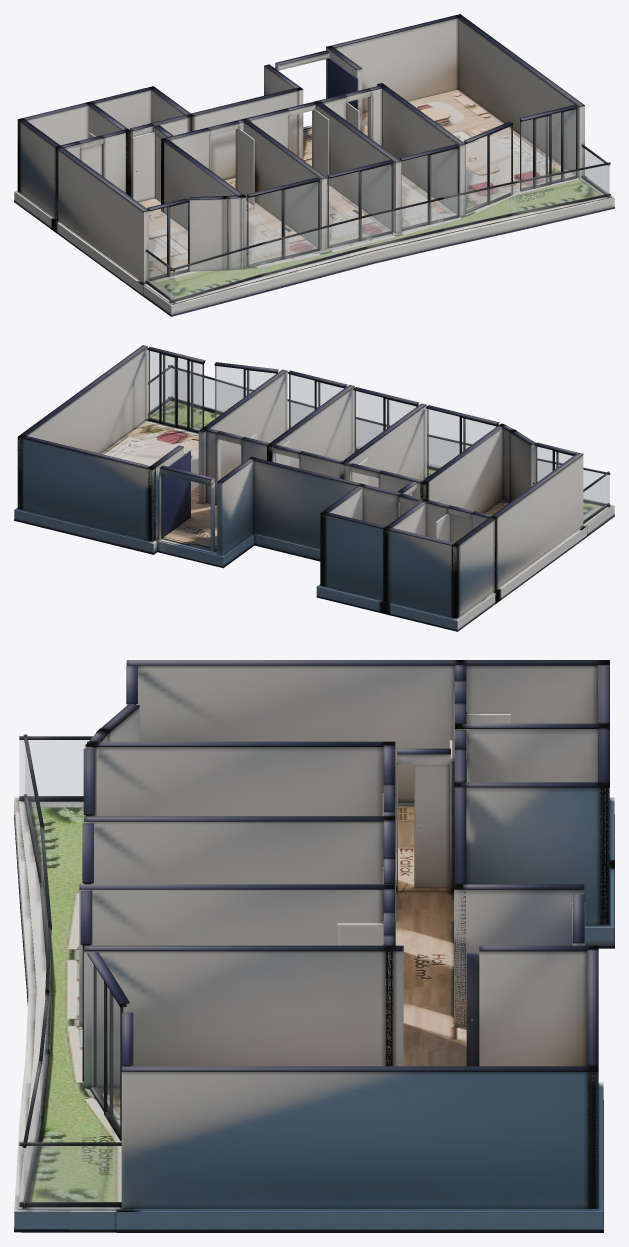
The picture shows the model from 3 angles, top to bottom: view 1: azimuth 30°, elevation 25°; view 2: azimuth 150°, elevation 25°; view 3: azimuth 270°, elevation 25°; orthographic projection. The views are drawn at different scales.
Parts seen in each view (by area): view 1: plan, glass1_m, glass2_m, glass3_m, railg7_m, glass5_m, railg4_m, railg8_m, glass4_m, glass0_m, railg5_m, railg6_m (+2 smaller); view 2: plan, glass5_m, glass1_m, glass2_m, glass4_m, railg4_m, glass3_m, railg8_m, railg3_m, railg7_m, glass0_m, railg6_m (+1 smaller); view 3: plan, railg2_m, railg3_m, glass4_m, railg8_m, railg4_m.
Boxes of the visible parts, x1,y1,x2,y2 form: plan: [14, 14, 614, 316]; glass1_m: [248, 182, 317, 265]; glass2_m: [328, 164, 391, 245]; glass3_m: [401, 149, 457, 228]; railg7_m: [261, 217, 370, 274]; glass5_m: [521, 109, 575, 188]; railg4_m: [511, 165, 609, 213]; railg8_m: [170, 244, 265, 300]; glass4_m: [465, 126, 510, 211]; glass0_m: [149, 203, 187, 278]; railg5_m: [438, 184, 515, 229]; railg6_m: [366, 200, 442, 246]; plan: [14, 345, 614, 631]; glass5_m: [148, 350, 202, 430]; glass1_m: [427, 409, 495, 476]; glass2_m: [354, 391, 415, 451]; glass4_m: [215, 366, 275, 418]; railg4_m: [171, 368, 250, 411]; glass3_m: [289, 374, 343, 428]; railg8_m: [538, 461, 609, 504]; railg3_m: [583, 475, 608, 520]; railg7_m: [429, 437, 469, 467]; glass0_m: [535, 446, 572, 482]; railg6_m: [356, 419, 386, 448]; plan: [14, 660, 614, 1232]; railg2_m: [19, 1146, 121, 1202]; railg3_m: [19, 740, 89, 796]; glass4_m: [92, 963, 124, 1130]; railg8_m: [25, 747, 42, 885]; railg4_m: [24, 1071, 40, 1207].
Size of the model in its own units: 14.64 by 2.62 by 8.95.
Materials: 2 (1 with a texture image).
